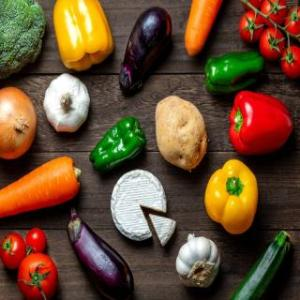carrot: (0, 157, 82, 217), (186, 1, 222, 56)
eggplant: (67, 209, 141, 297), (119, 5, 173, 94)
onion: (1, 87, 37, 161)
